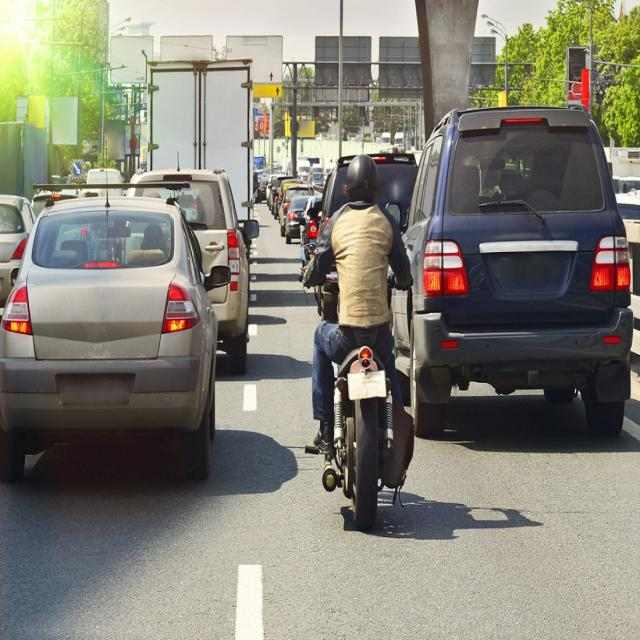MOTORCYCLE: (323, 254, 407, 522)
SED: (1, 192, 220, 483)
SUV: (407, 108, 630, 443)
